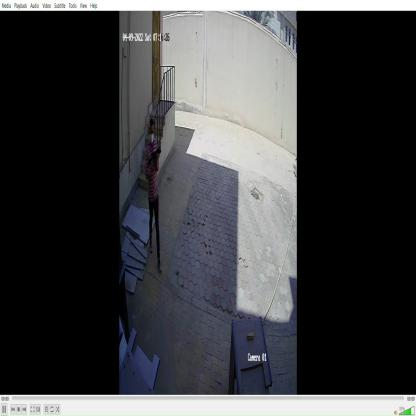handgun: (145, 142, 166, 173)
